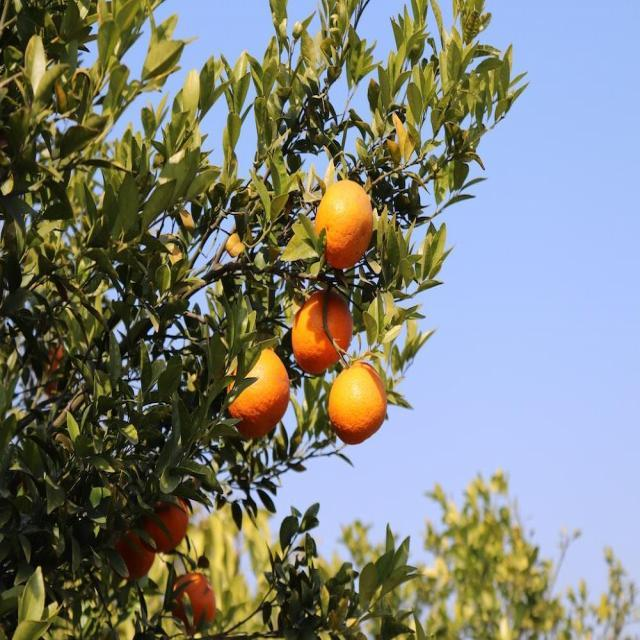Jeruk Sudah Matang: (226, 350, 290, 433), (316, 177, 374, 265), (292, 292, 352, 374), (329, 366, 388, 442), (174, 570, 216, 628), (146, 495, 187, 550), (117, 528, 156, 576)
